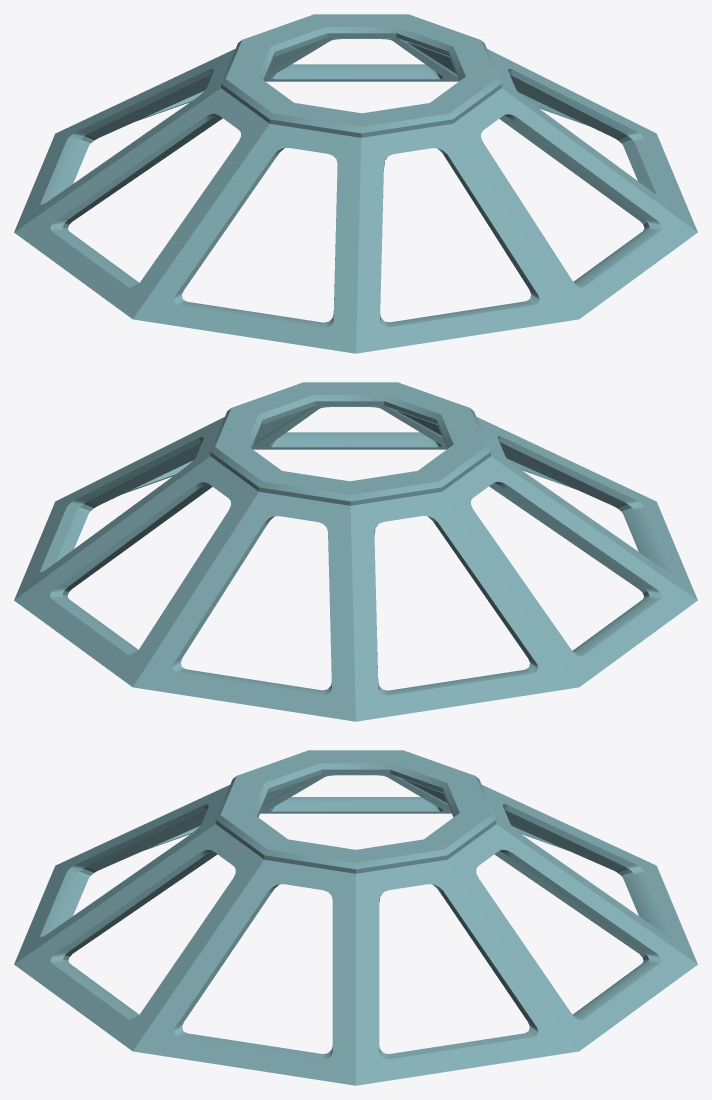
File: roof.fbx
3 renders of one model, top to bottom at view 1: azimuth 30°, elevation 25°; view 2: azimuth 150°, elevation 25°; view 3: azimuth 270°, elevation 25°, orthographic.
Visible parts, largest first — view 1: roof; view 2: roof; view 3: roof.
Boxes of the visible parts, x1,y1,x2,y2 form: roof: (14,14,697,353); roof: (14,382,697,721); roof: (14,750,697,1085).
Bounding box in the file's own units: 1940 × 435 × 1970.
